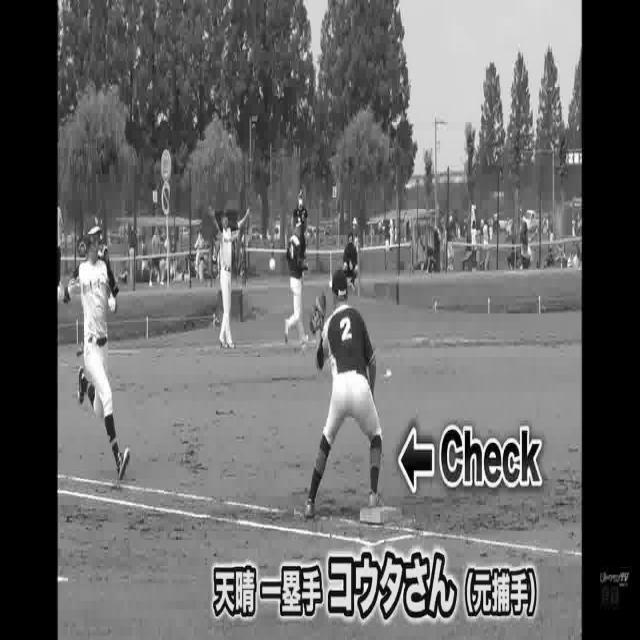base: (359, 501, 402, 527)
baseball: (268, 255, 276, 269)
baseball_glove: (309, 289, 330, 338)
shoe: (76, 364, 87, 410), (118, 447, 132, 483), (302, 497, 319, 521), (368, 492, 386, 506)
